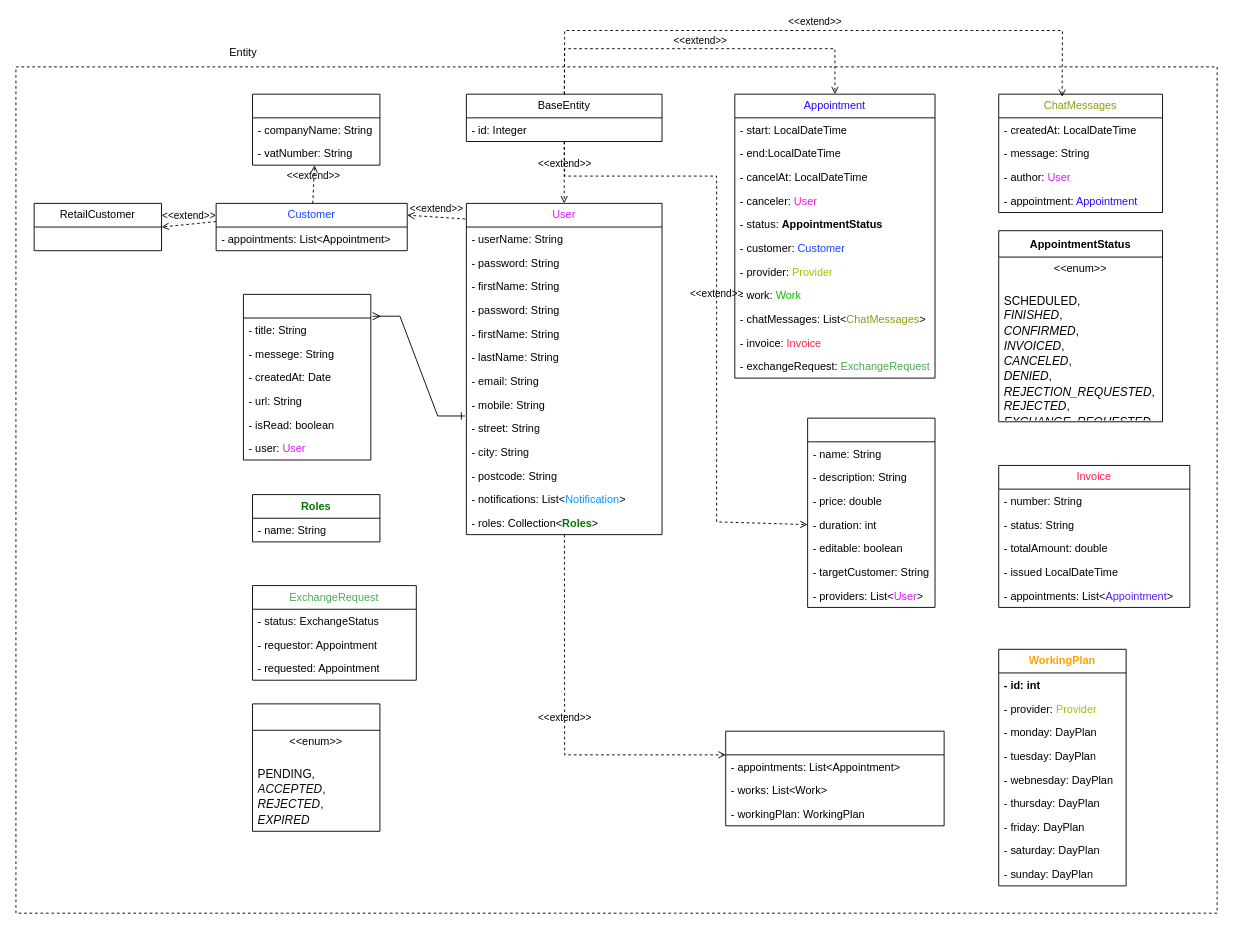
The diagram is 1233 pixels wide and 929 high, and some of its shapes have lost their labels. Each missing label, with the box of its shape:
CorporateCustomer: (252, 93, 380, 165)
ExchangeStatus: (252, 703, 380, 831)
Notification: (243, 293, 371, 460)
Provider: (725, 730, 944, 826)
Work: (807, 417, 935, 607)
